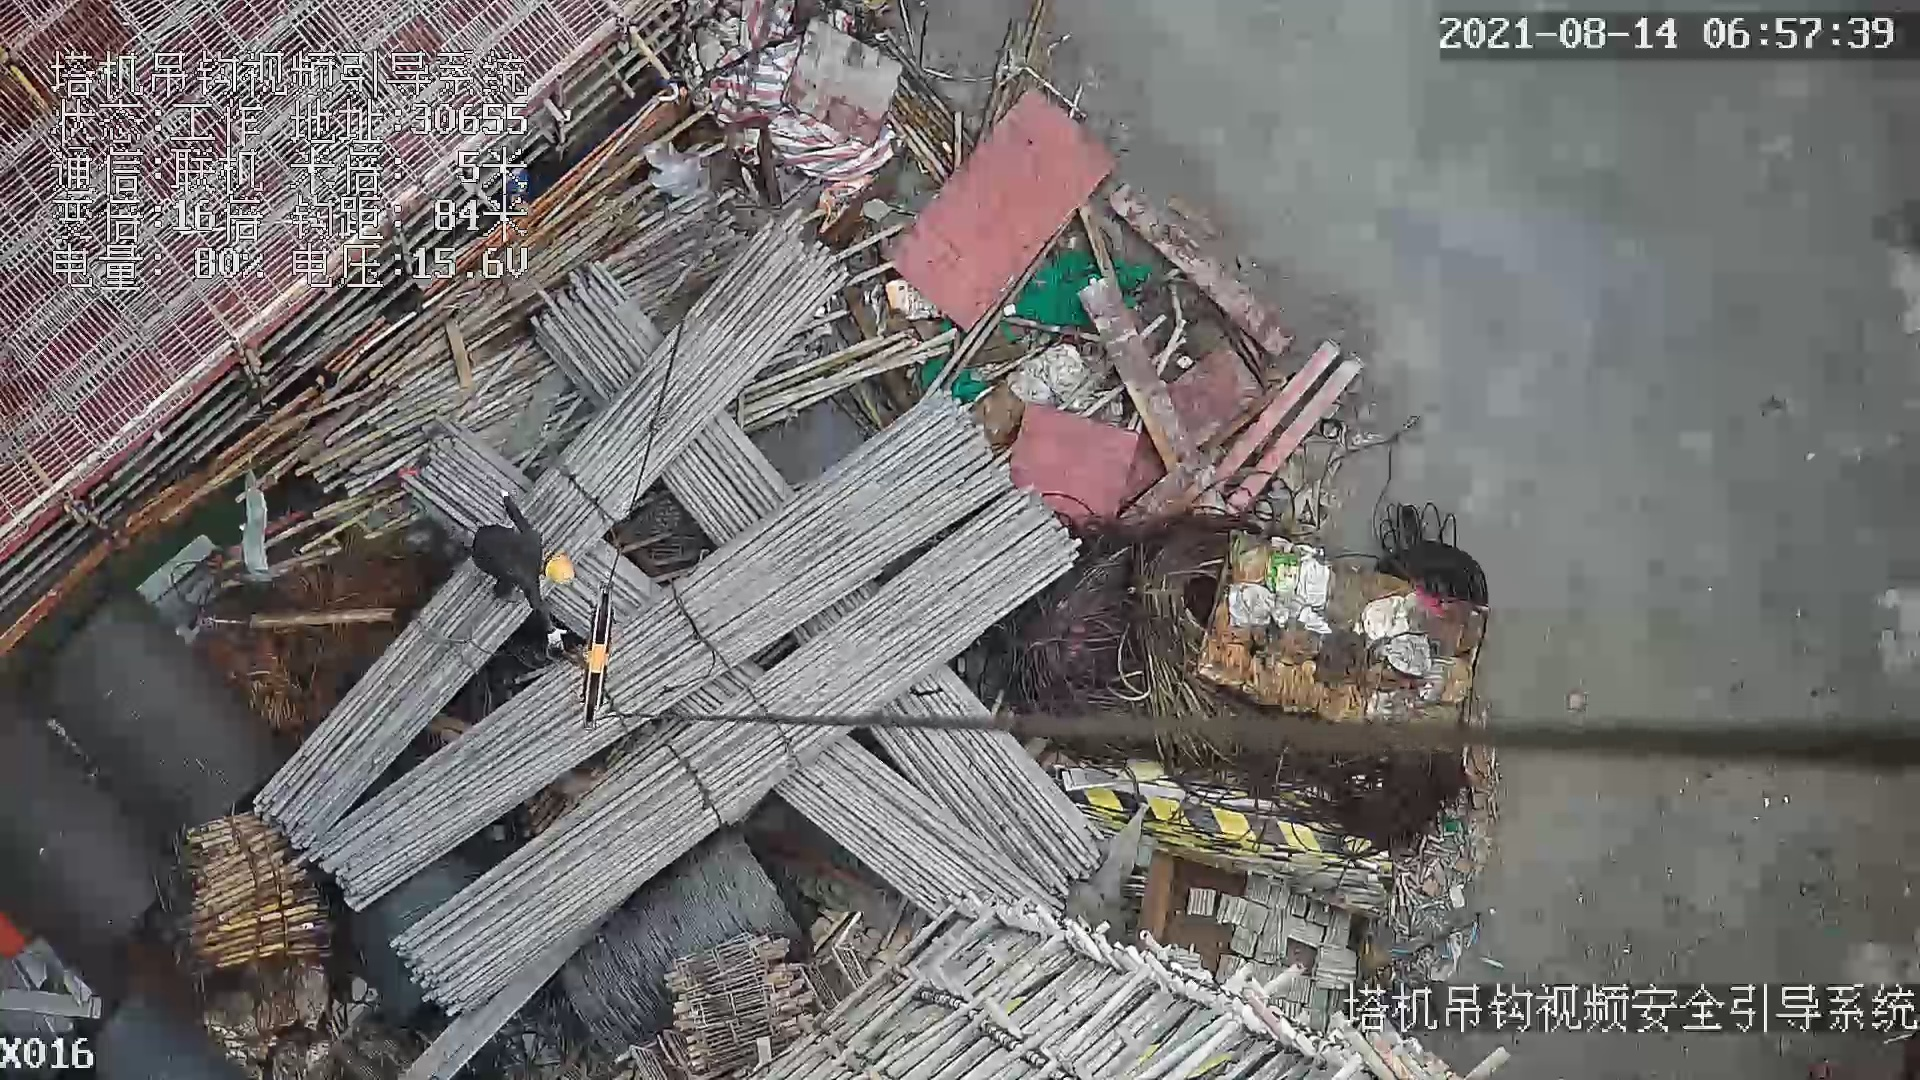helmet: (545, 555, 575, 584)
hook: (567, 587, 622, 731)
person: (460, 491, 576, 654)
rebar: (306, 387, 1017, 915), (256, 212, 848, 847), (394, 485, 1082, 1018), (771, 735, 1069, 923), (870, 666, 1101, 888)
scaffold: (173, 812, 332, 972)
